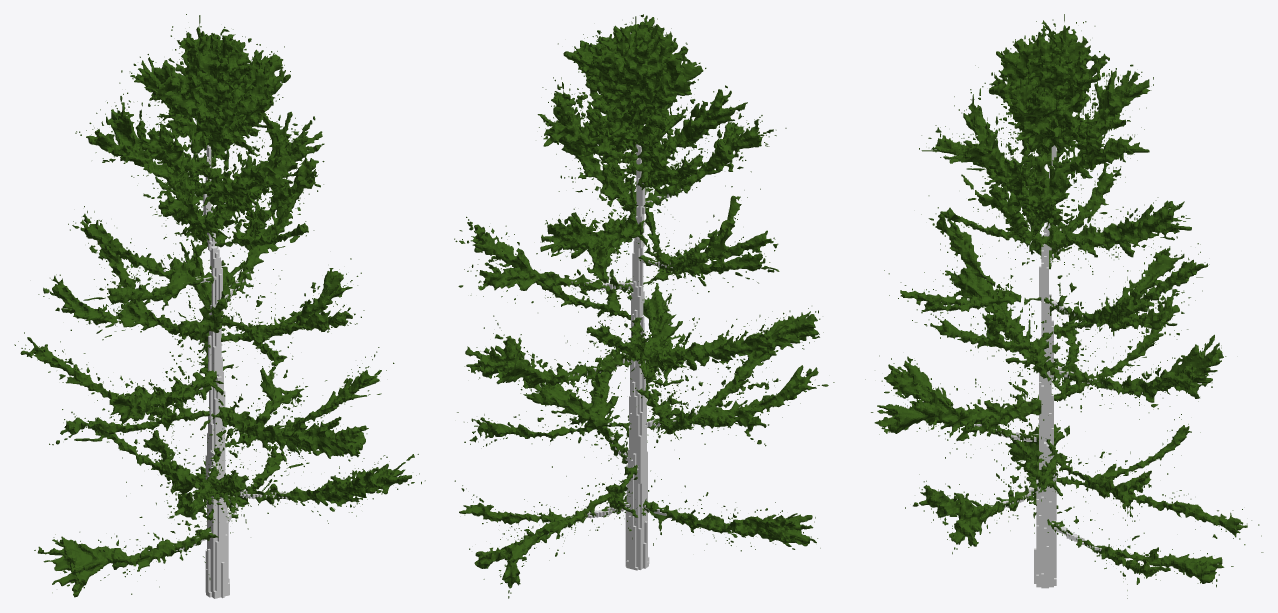
Rendered from Shorter fat tree low resolution.fbx.
3 renders of one model, left to right at view 1: azimuth 30°, elevation 25°; view 2: azimuth 150°, elevation 25°; view 3: azimuth 270°, elevation 25°, orthographic. The views are drawn at different scales.
Visible parts, largest first — view 1: leaves, tree; view 2: leaves, tree; view 3: leaves, tree.
Boxes of the visible parts, x1,y1,x2,y2 form: leaves: (14, 14, 425, 597); tree: (163, 145, 287, 598); leaves: (454, 14, 834, 598); tree: (547, 144, 698, 570); leaves: (865, 14, 1263, 598); tree: (974, 145, 1132, 588).
Size of the model in its own units: 2177 by 3465 by 2214.
